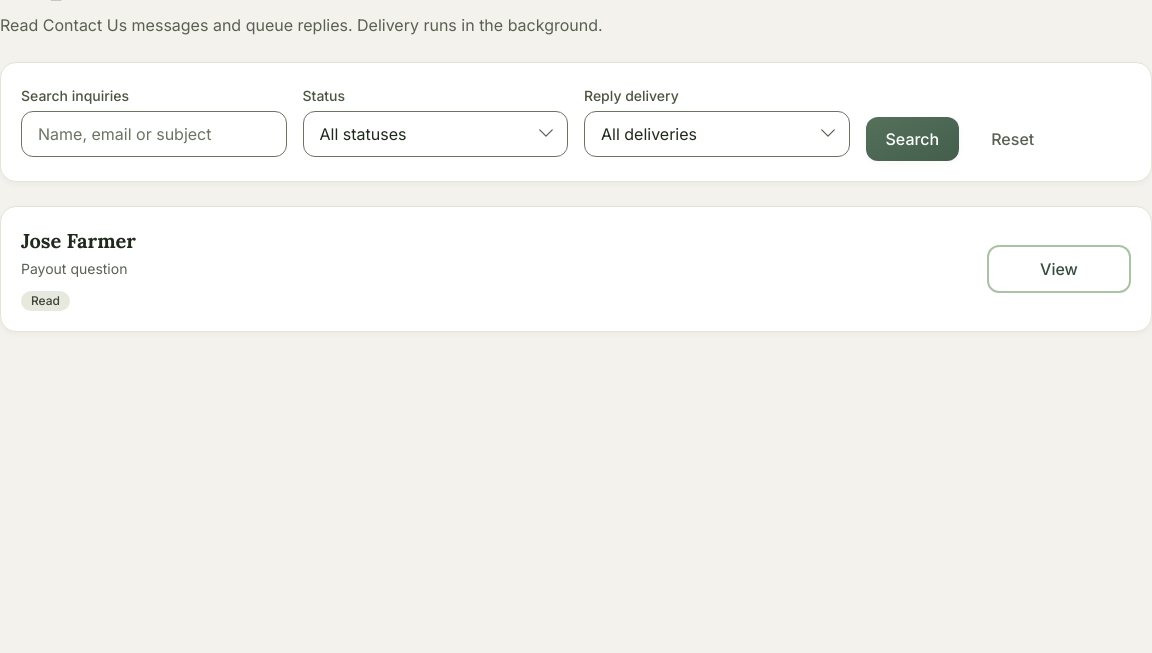
Test: AdminInquiriesPage.vue › shows Retry for a stale queued reply
Click the button "View". click: {"x": 1059, "y": 269}
box: x1=987 y1=245 x2=1131 y2=293
(page scrolled)
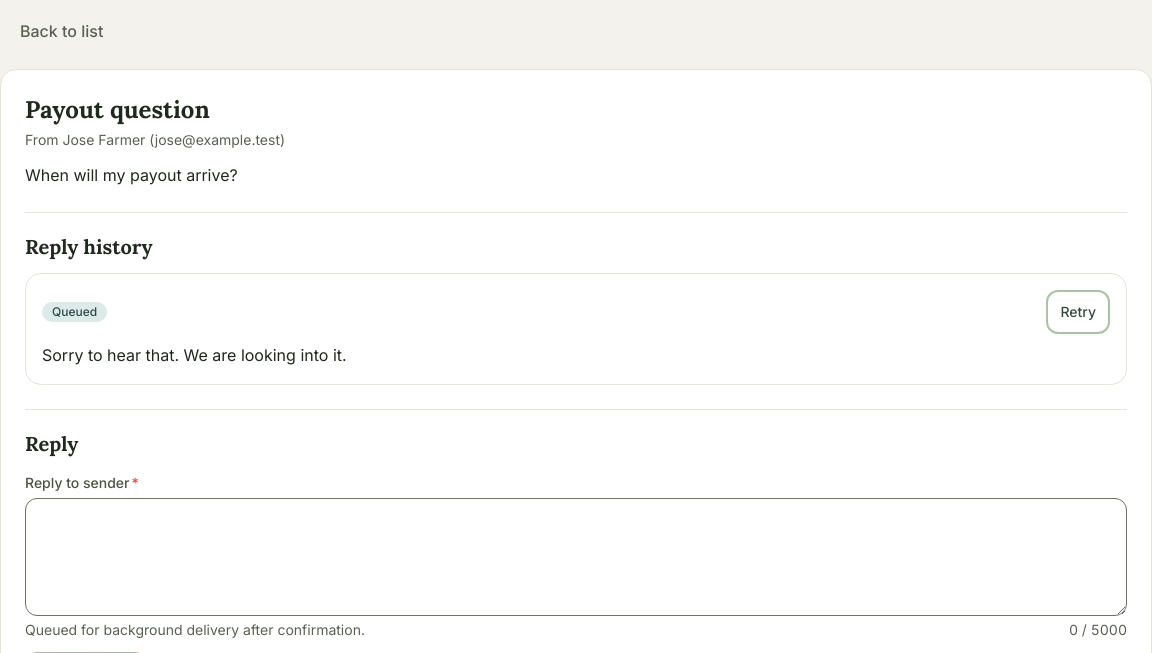
Now the button with aria-label "Retry delivery of reply 14" is enabled, box x1=1046 y1=290 x2=1110 y2=334
